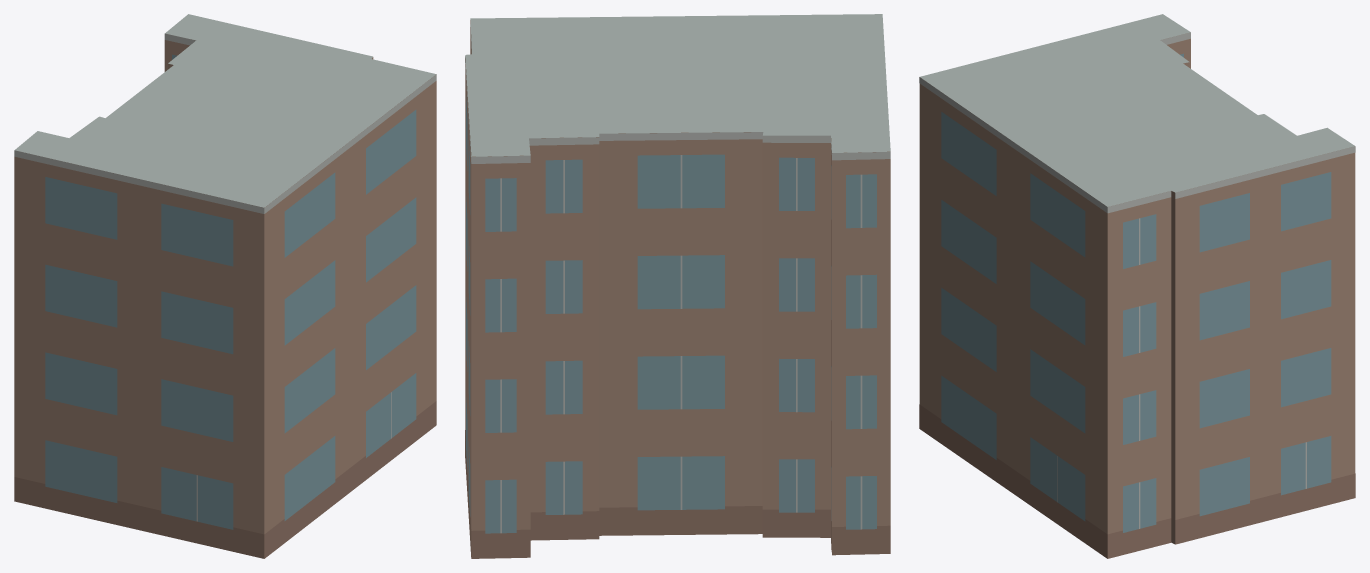
The model's file is survey-upis-32750935.glb.
3 renders of one model, left to right at view 1: azimuth 30°, elevation 25°; view 2: azimuth 150°, elevation 25°; view 3: azimuth 270°, elevation 25°, orthographic. The views are drawn at different scales.
Parts seen in each view (by area): view 1: survey-upis-32750935.tmp; view 2: survey-upis-32750935.tmp; view 3: survey-upis-32750935.tmp.
Boxes of the visible parts, bbox=[...] form: survey-upis-32750935.tmp: bbox=[14, 14, 436, 558]; survey-upis-32750935.tmp: bbox=[465, 14, 890, 558]; survey-upis-32750935.tmp: bbox=[919, 14, 1355, 558].
Bounding box in the file's own units: 15.77 × 13.4 × 15.06.
